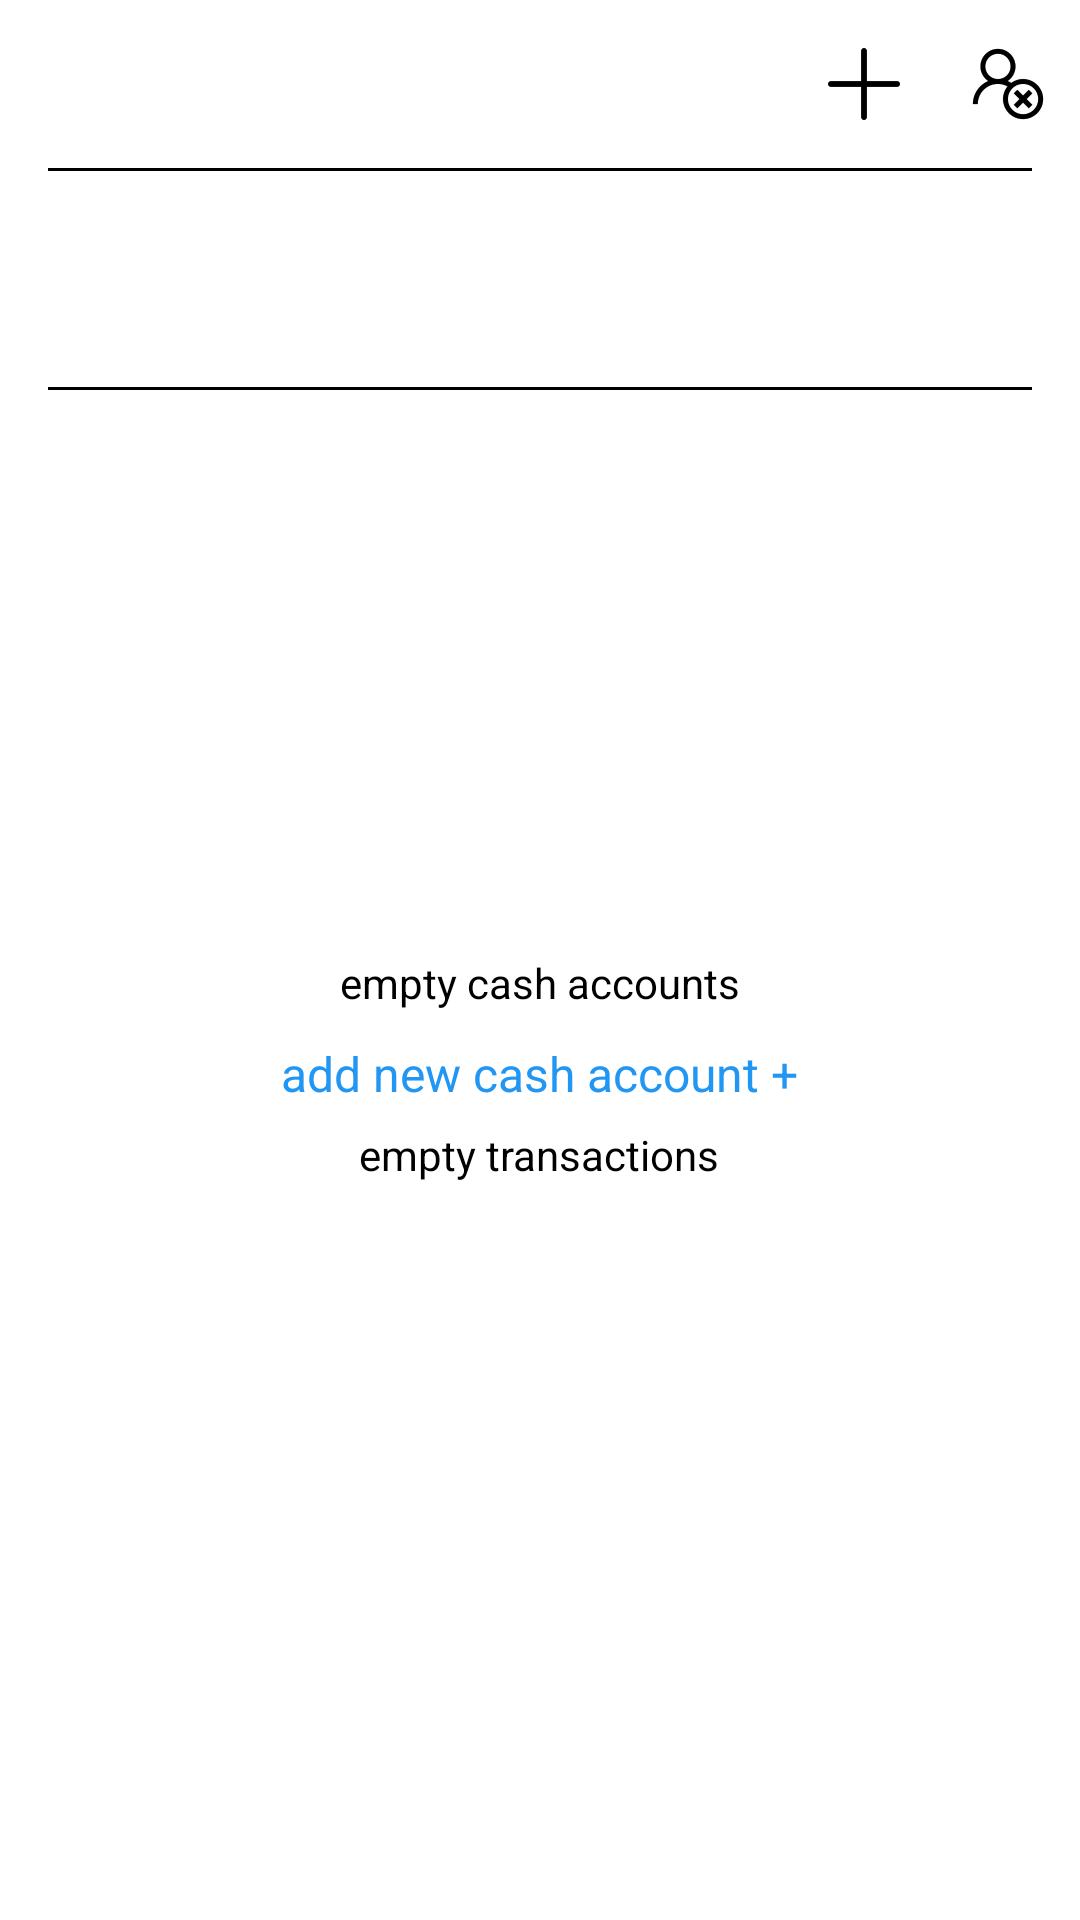

Named icons in this screenshot (1080*1920) and their bounding boxes, box(x1, y1, x2, y2):
plus: box(828, 48, 900, 120)
user remove: box(972, 48, 1044, 120)
